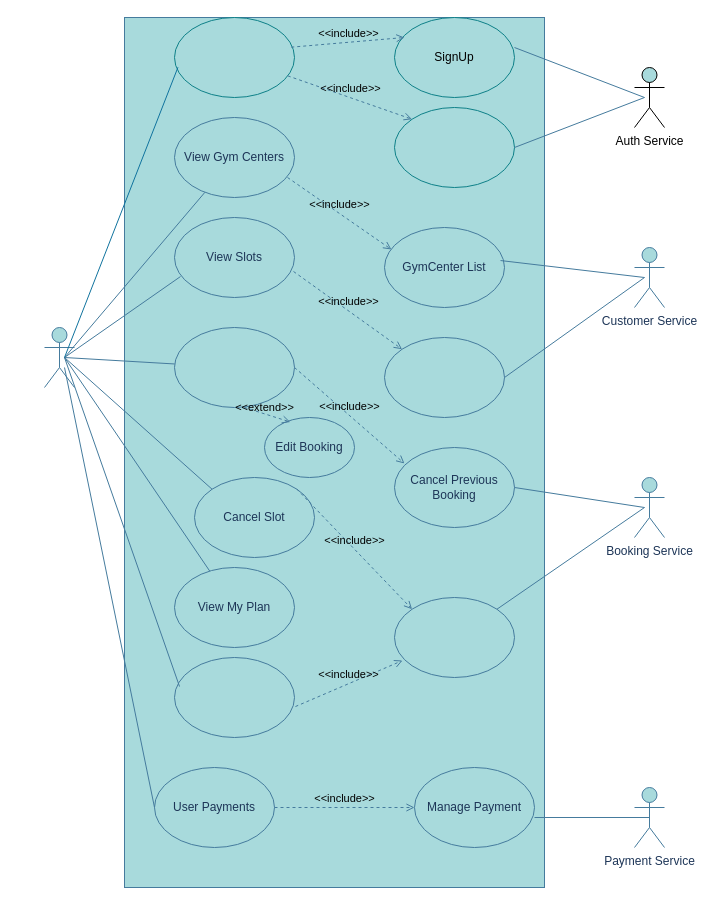
Image size: 714x905. Some labels were removed from this diagram. Each missing label, with the centre of its shape:
"Book Slot" belongs at [234,367].
"Flipfit Customer" belongs at [59,357].
"Login" belongs at [454,147].
"Registration" belongs at [234,57].
"Update Waiting List" belongs at [454,637].
"View Slot List" belongs at [444,377].
"Waitlisting Slots" belongs at [234,697].
